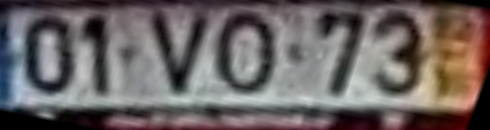0: (20, 14, 76, 102)
1: (79, 15, 110, 99)
3: (368, 7, 427, 100)
7: (315, 9, 371, 103)
O: (212, 10, 279, 101)
V: (149, 13, 221, 101)
